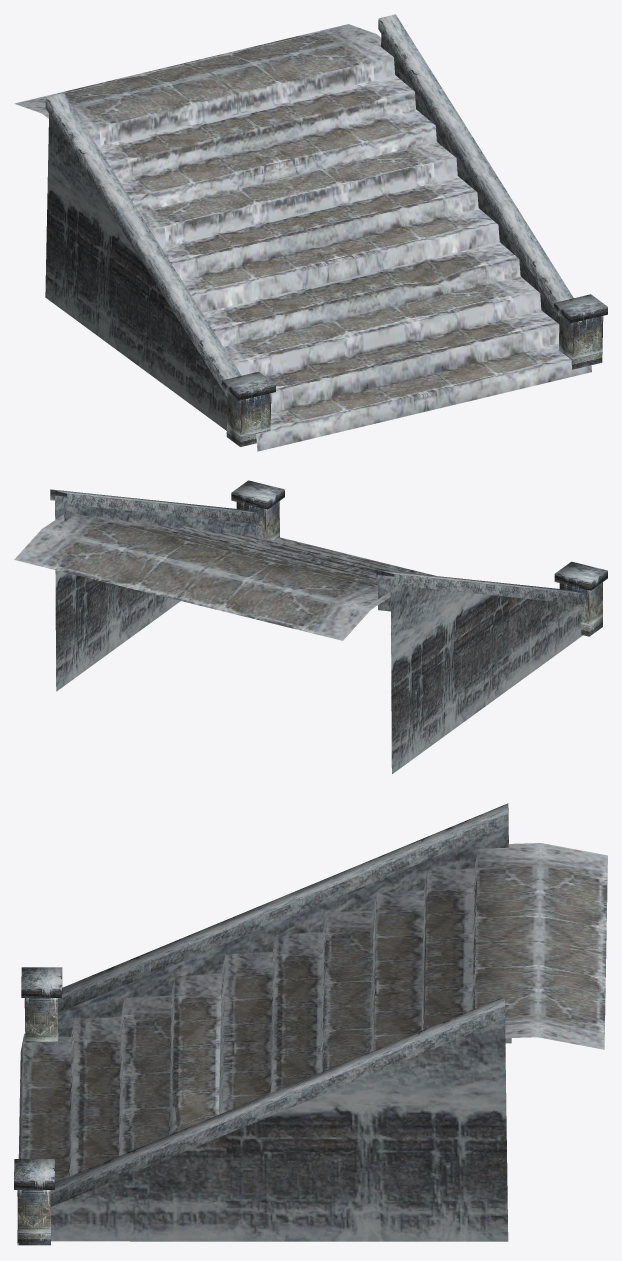
The model's file is S_Build_Snowland137.FBX.
3 renders of one model, top to bottom at view 1: azimuth 30°, elevation 25°; view 2: azimuth 150°, elevation 25°; view 3: azimuth 270°, elevation 25°, orthographic. The views are drawn at different scales.
Parts seen in each view (by area): view 1: S_Build_Snowland137; view 2: S_Build_Snowland137; view 3: S_Build_Snowland137.
Part boxes in pixels (x1,y1,x2,y2): S_Build_Snowland137: [14, 14, 607, 451]; S_Build_Snowland137: [14, 480, 607, 773]; S_Build_Snowland137: [14, 803, 607, 1245].
Size of the model in its own units: 592 by 698 by 319.
